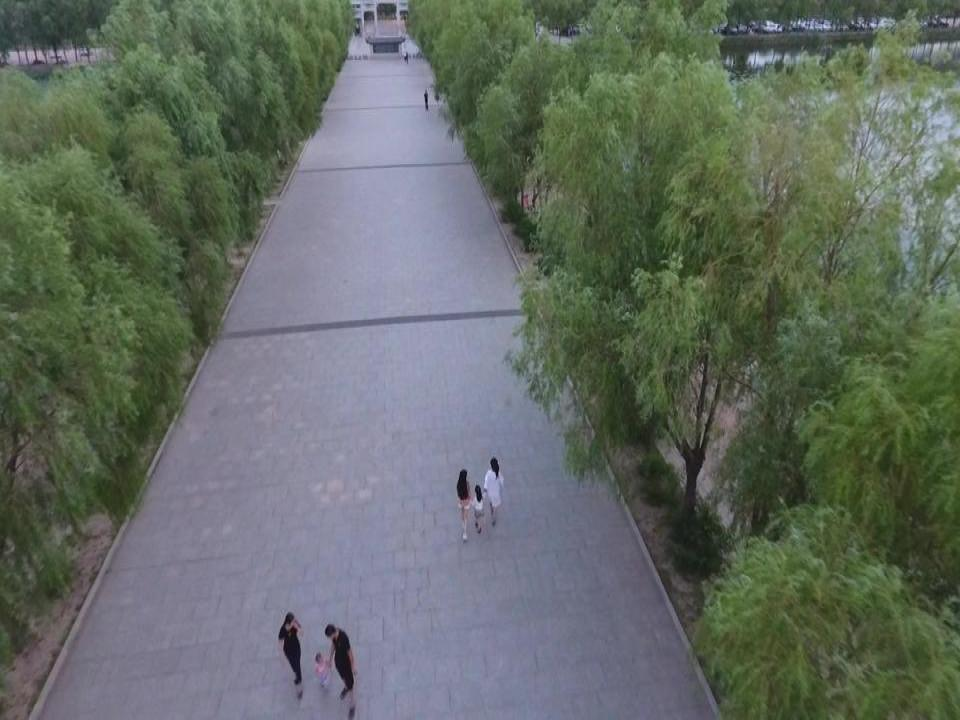car: (907, 18, 928, 30), (920, 17, 940, 28), (930, 17, 949, 27), (79, 45, 93, 56)
